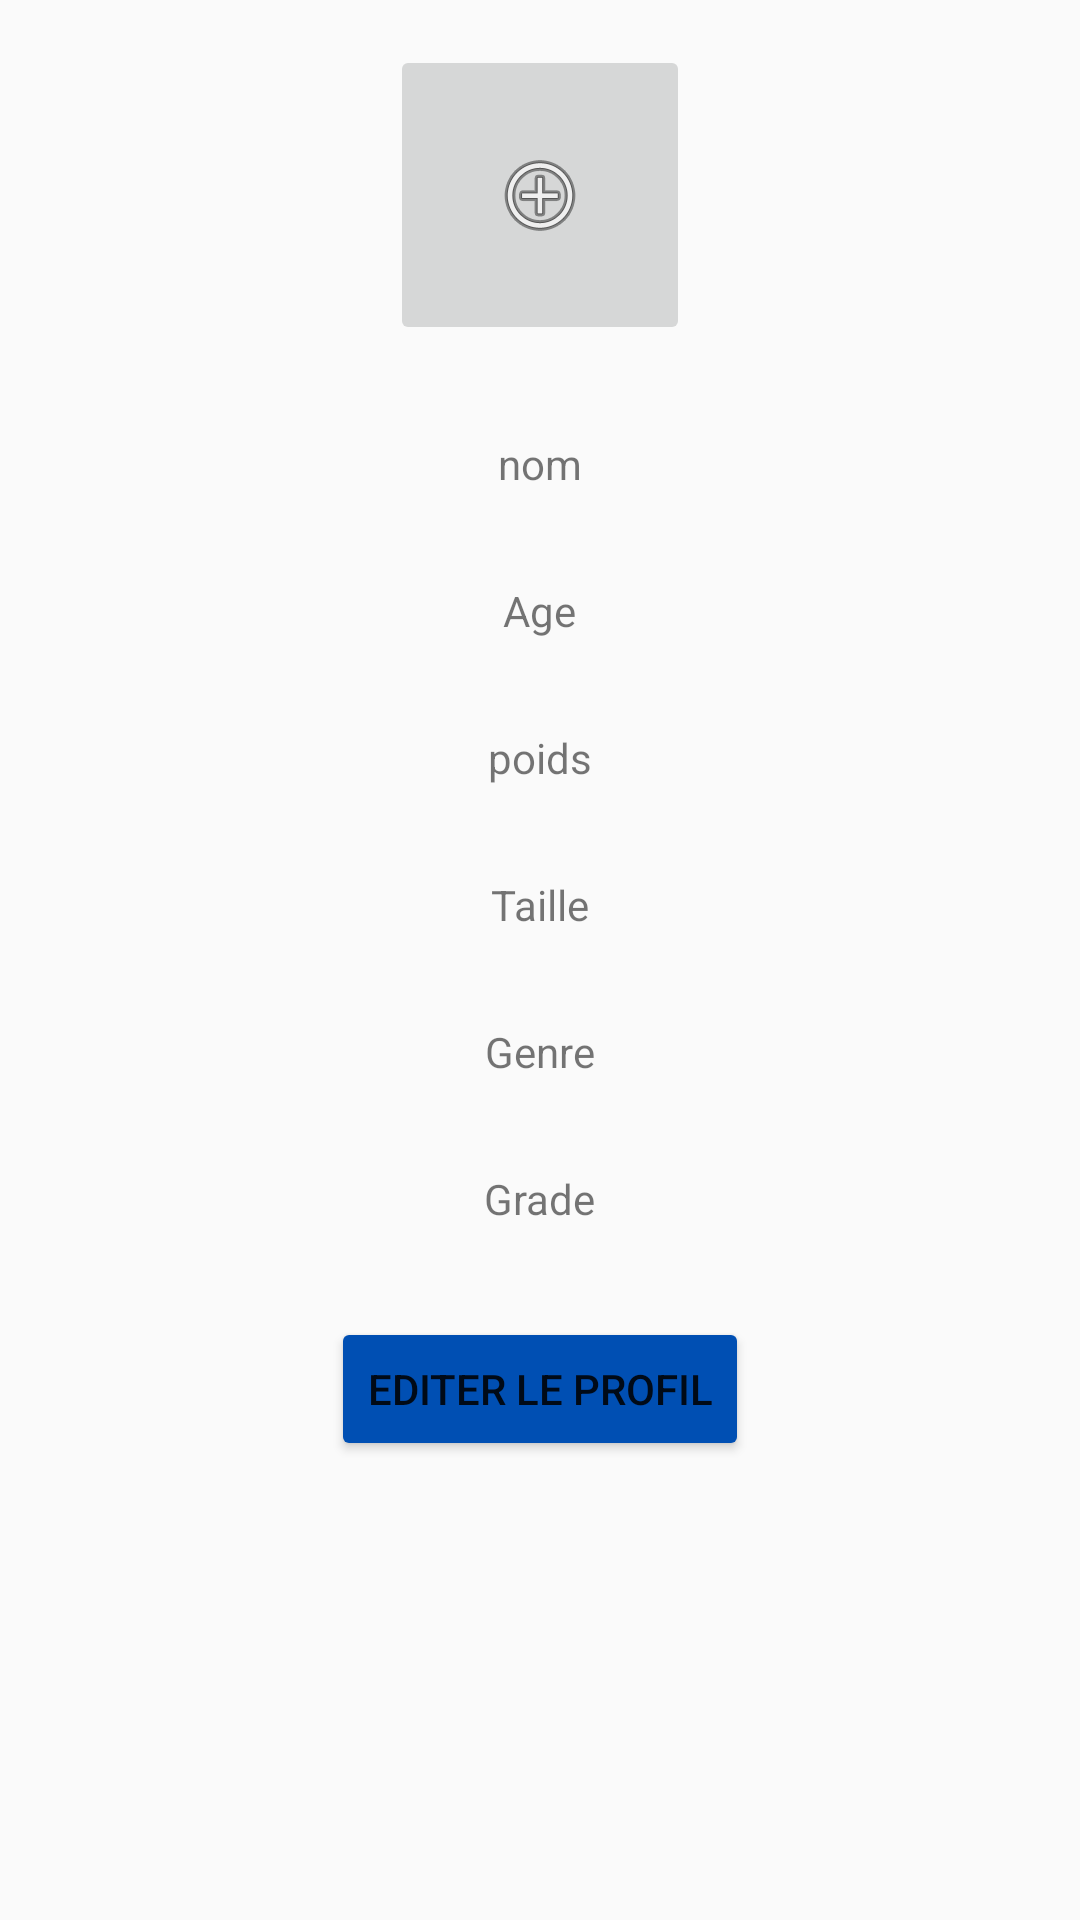

Where icons sit on this 1080*1920 app screen, as (x1, y1, x2, y2):
add: (402, 63, 678, 327)
